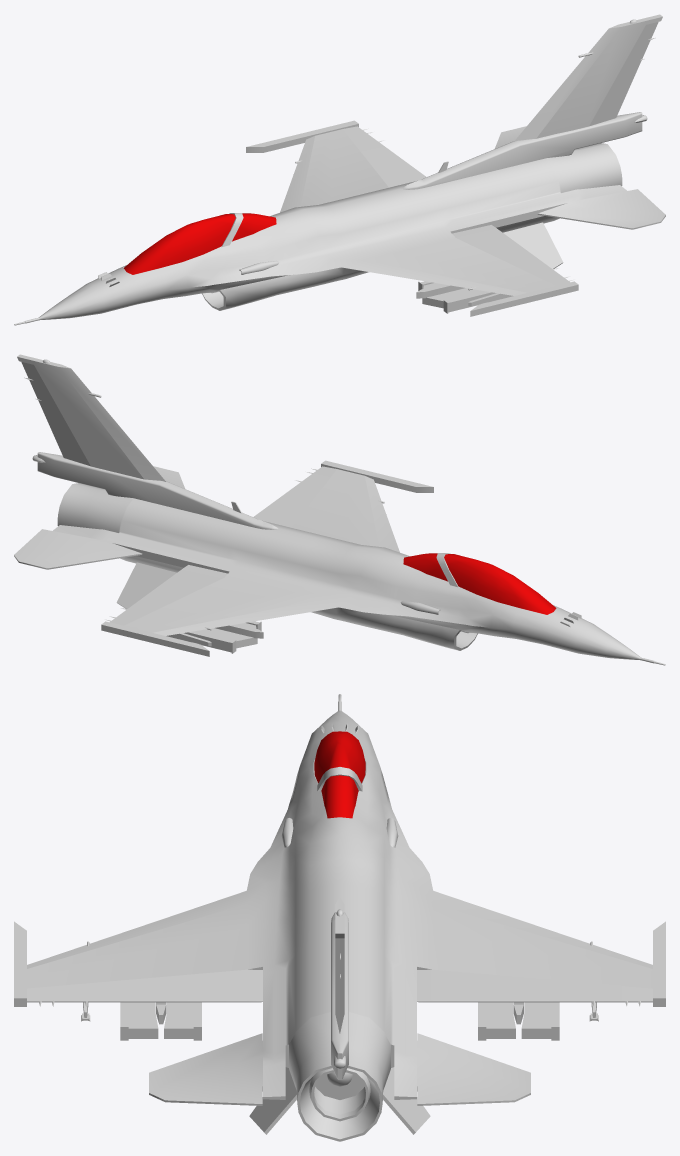
The picture shows the model from 3 angles, top to bottom: view 1: azimuth 30°, elevation 25°; view 2: azimuth 150°, elevation 25°; view 3: azimuth 270°, elevation 25°; orthographic projection. The views are drawn at different scales.
Parts seen in each view (by area): view 1: Circle, Circle_1; view 2: Circle, Circle_1; view 3: Circle, Circle_1.
Boxes of the visible parts, bbox=[...] form: Circle: bbox=[14, 14, 665, 325]; Circle_1: bbox=[123, 213, 276, 274]; Circle: bbox=[14, 354, 665, 665]; Circle_1: bbox=[403, 553, 556, 614]; Circle: bbox=[14, 694, 665, 1141]; Circle_1: bbox=[314, 731, 365, 818].
Bounding box in the file's own units: 1066 × 334 × 639.
